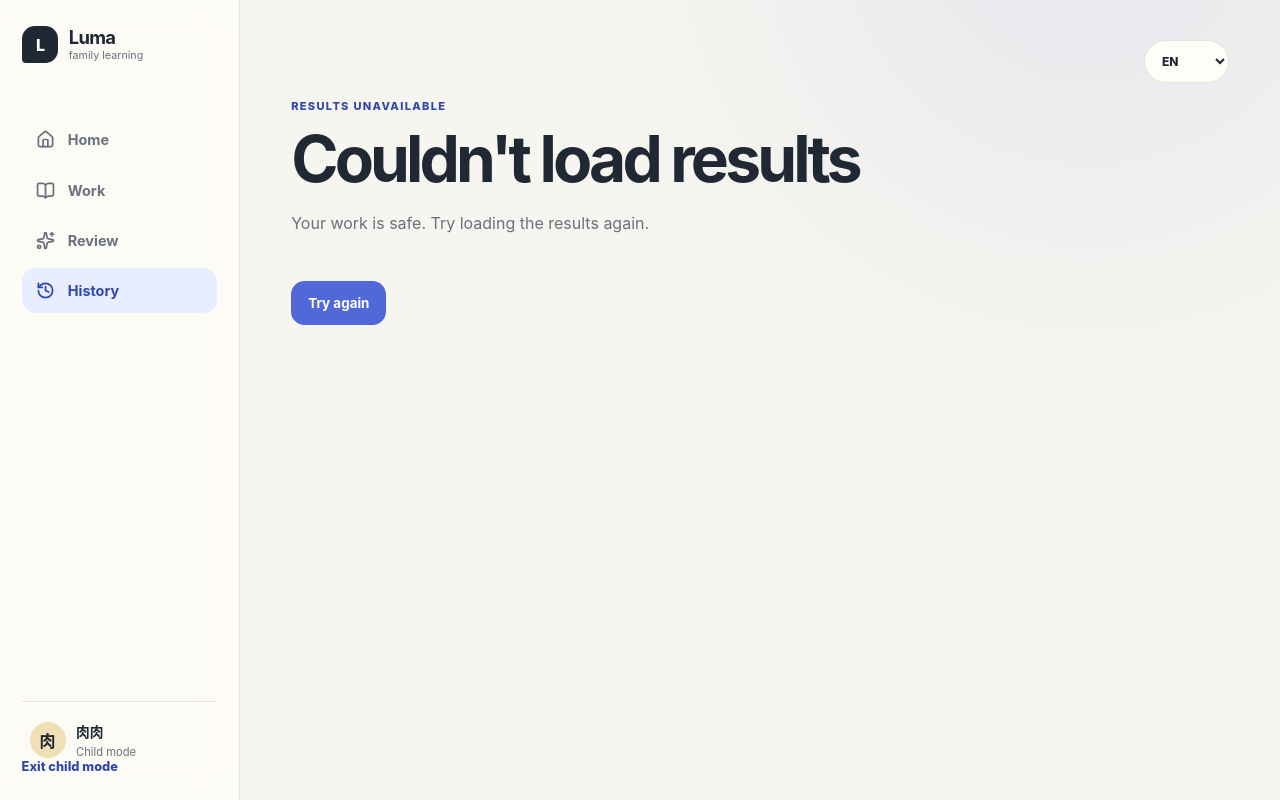
Test: ChildResultsPage › lets a child retry a temporary result-loading failure without leaving the result page
This screenshot has width=1280, height=800.
What coordinates should you click on to do the following:
click the button "Try again"
I would click on:
 (339, 303)
Its box is [291,281,386,325].
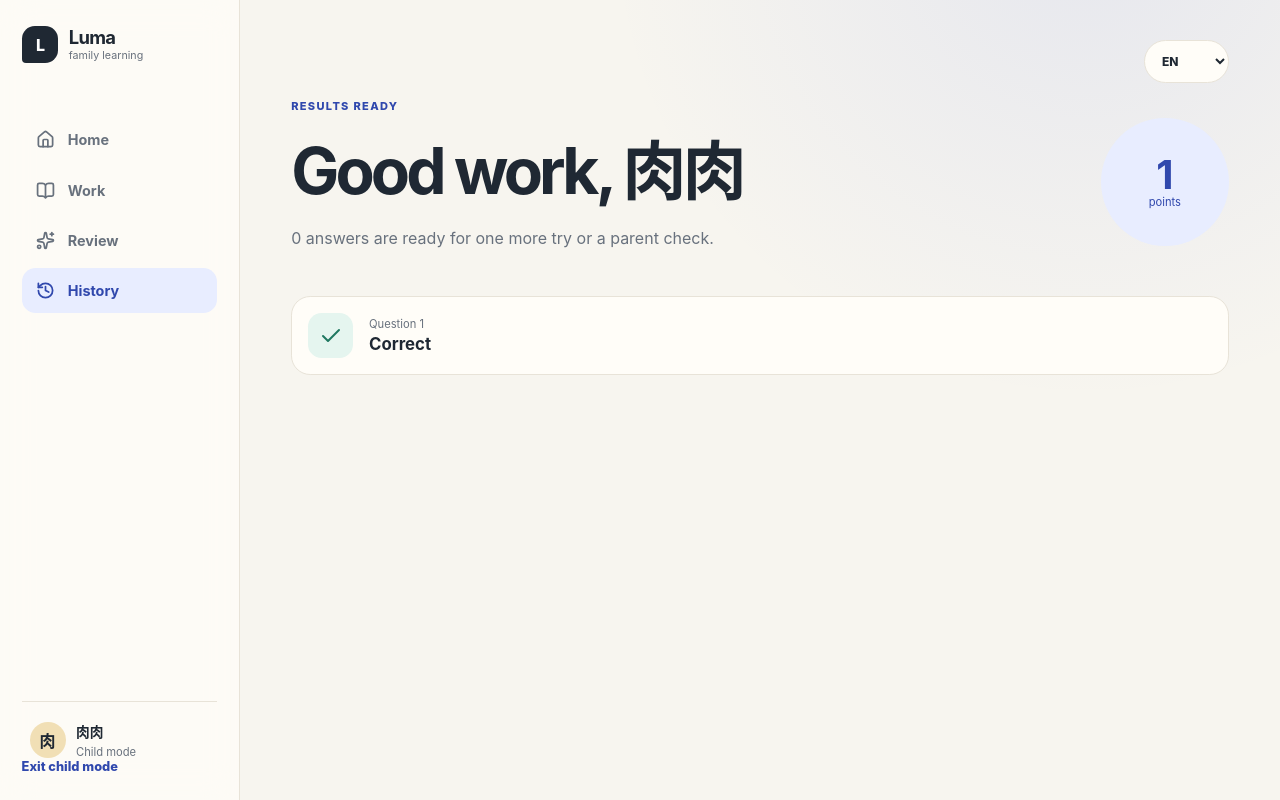
Expected: the heading "Good work, 肉肉" is shown, [291,120,743,212]
